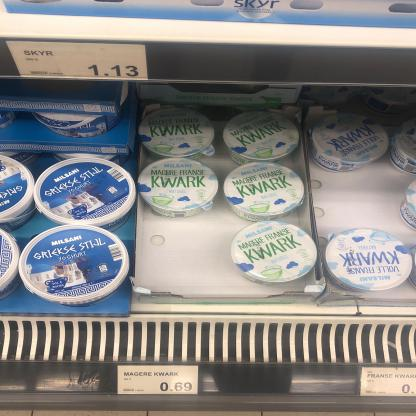prtg: (7, 42, 150, 81), (119, 366, 200, 395), (361, 368, 415, 398)
